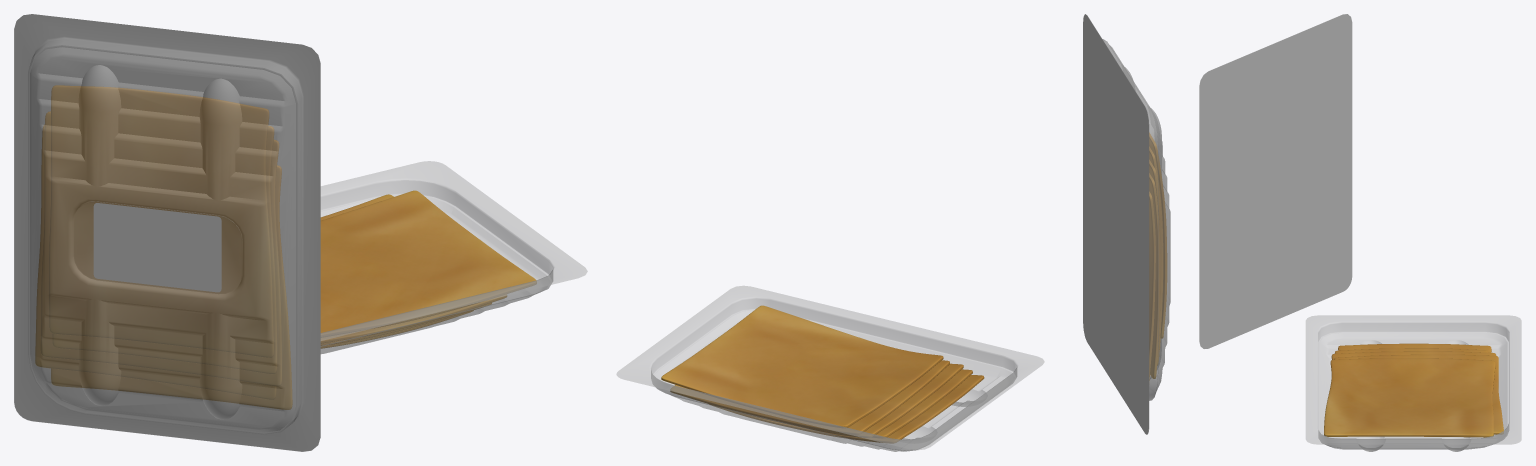
Rendered from Cheese.fbx.
3 views of the same model, side by side, from view 1: azimuth 30°, elevation 25°; view 2: azimuth 150°, elevation 25°; view 3: azimuth 270°, elevation 25° (orthographic). The views are drawn at different scales.
Visible parts, largest first — view 1: Box1, Cheese1, Label1, Label3, Cheese, Box, Label2; view 2: Cheese, Label1, Box, Box1, Cheese1; view 3: Label1, Cheese, Box.
Part boxes in pixels (x1,y1,x2,y2): Box1: [14, 14, 320, 451]; Cheese1: [35, 85, 292, 409]; Label1: [14, 14, 320, 451]; Label3: [14, 15, 319, 450]; Cheese: [320, 190, 536, 348]; Box: [320, 161, 587, 354]; Label2: [93, 203, 221, 292]; Cheese: [661, 305, 984, 443]; Label1: [1083, 14, 1148, 434]; Box: [616, 285, 1044, 451]; Box1: [1088, 17, 1170, 431]; Cheese1: [1149, 132, 1167, 380]; Label1: [1199, 14, 1352, 348]; Cheese: [1324, 343, 1503, 437]; Box: [1305, 315, 1521, 451].
Bounding box in the file's own units: 60.08 × 42.88 × 45.09.
